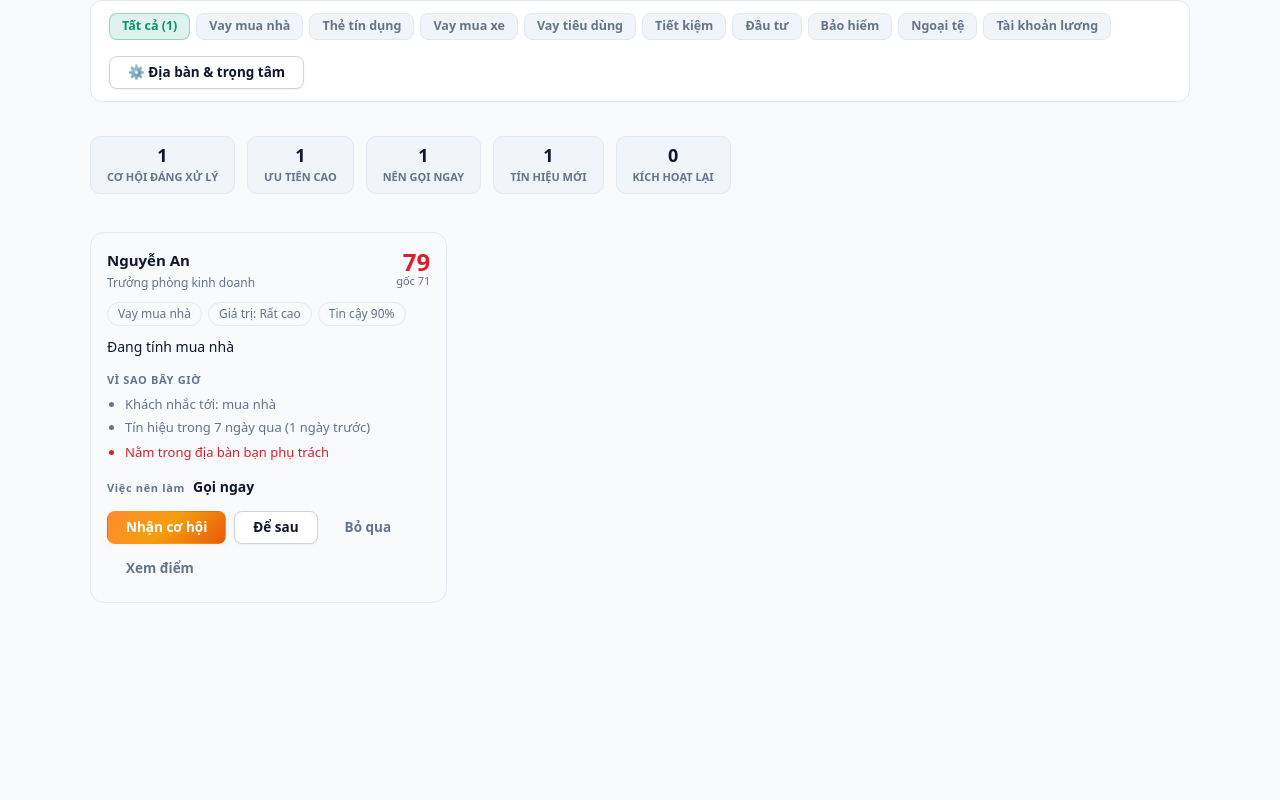
Scenario: Cơ hội hôm nay › xem được điểm từng chiều khi cần phản bác
This screenshot has width=1280, height=800.
Click the button "Xem điểm". click: [160, 569]
box: [107,552,213,586]
(page scrolled)
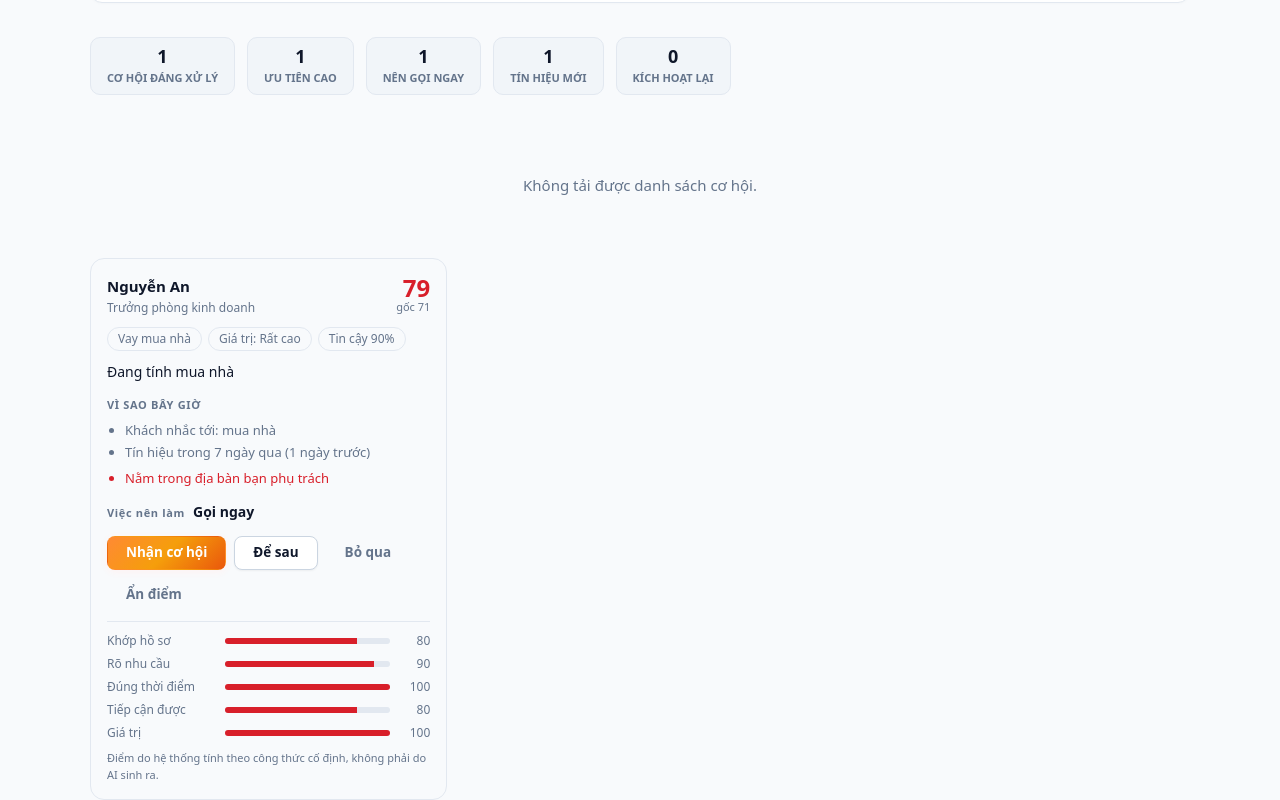
Check: the text "Rõ nhu cầu" is shown, box [107,655,170,672]
Check: the text "Đúng thời điểm" is shown, box [107,678,195,695]
Check: the text "không phải do AI sinh ra" is shown, box [107,750,426,782]
